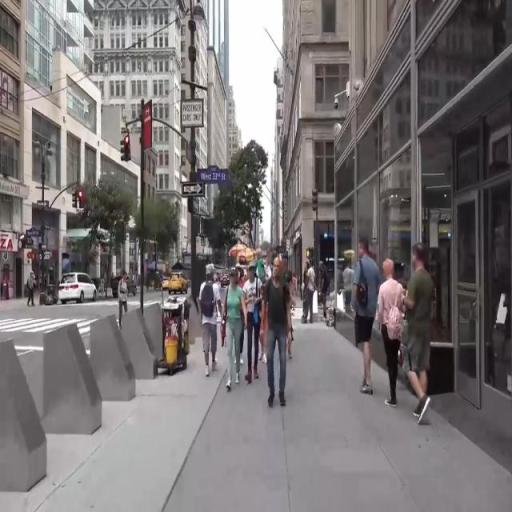person: (404, 247, 439, 432), (352, 242, 380, 399), (267, 258, 293, 416), (379, 257, 405, 413), (198, 261, 223, 371), (226, 268, 246, 391), (248, 262, 266, 384), (116, 270, 130, 319), (307, 265, 318, 327), (321, 260, 331, 327), (27, 274, 38, 307)
